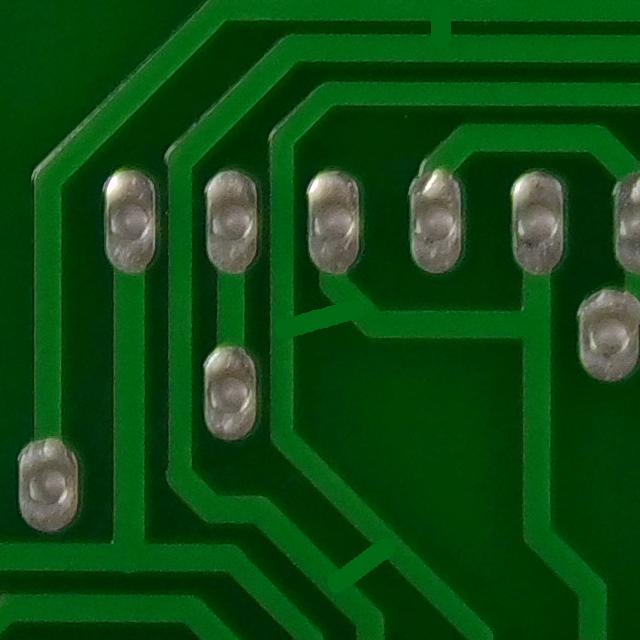short: (257, 283, 383, 358)
